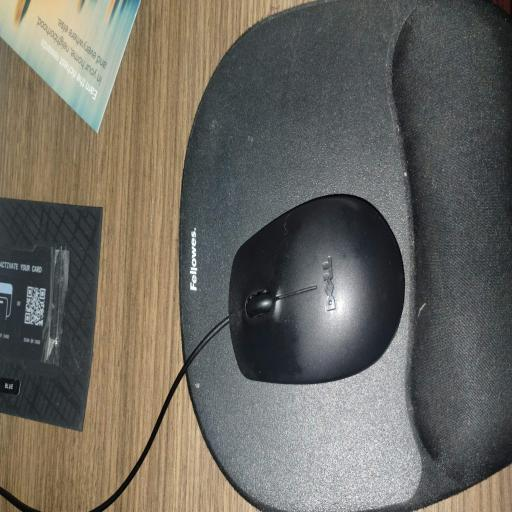mouse: (229, 196, 404, 383)
